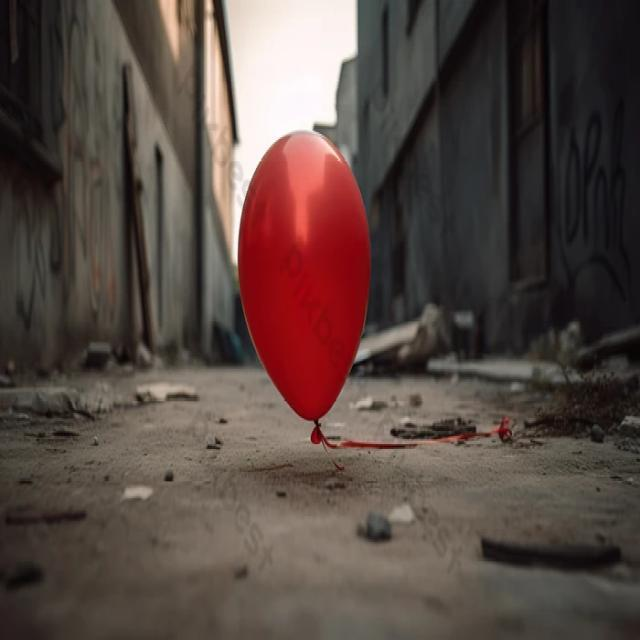red: (235, 128, 372, 442)
